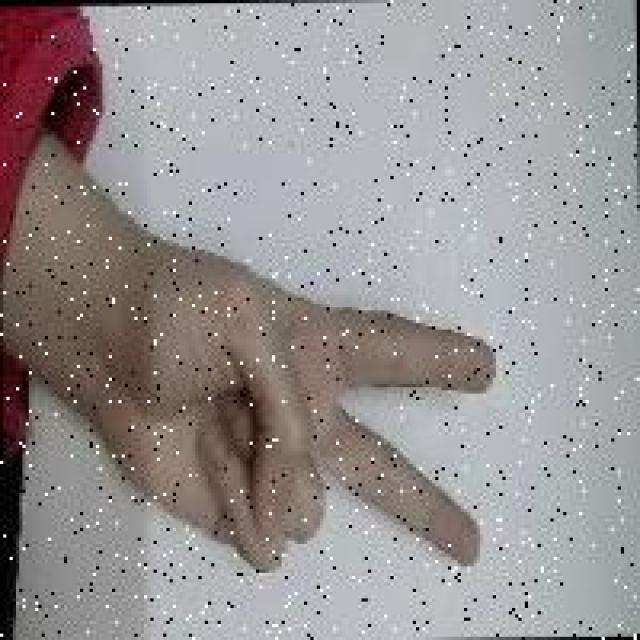V: (245, 138, 587, 570)
